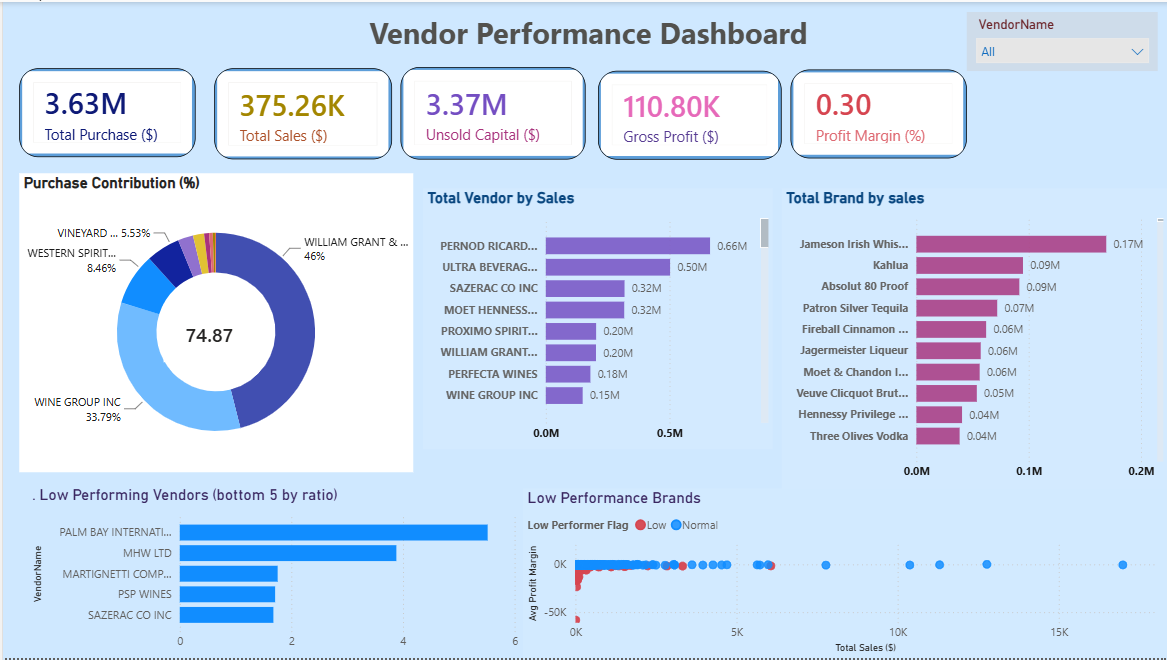

The dashboard page shown, as its layout file describes it:
{"tool":"powerbi","page":{"name":"Page 1","canvas":[1280,720],"ordinal":0},"visuals":[{"type":"cardVisual","fields":{"Data":["vendor_sales_summary.Total Purchase ($)"]},"box":[17.8,72.7,193.5,97.4],"z":0},{"type":"cardVisual","fields":{"Data":["vendor_sales_summary.Unsold Capital ($)"]},"box":[436.4,71.4,203.1,101.5],"z":1000},{"type":"cardVisual","fields":{"Data":["vendor_sales_summary.Total Sales ($)"]},"box":[231.9,72.7,194.9,100.2],"z":2000},{"type":"cardVisual","fields":{"Data":["vendor_sales_summary.Gross Profit ($)"]},"box":[653.2,75.5,201.7,97.4],"z":3000},{"type":"cardVisual","fields":{"Data":["vendor_sales_summary.Profit Margin (%)"]},"box":[864.5,74.1,193.5,97.4],"z":4000},{"type":"barChart","title":"Total Vendor by Sales","fields":{"Category":["vendor_sales_summary.VendorName"],"Y":["vendor_sales_summary.Total Purchase ($)"]},"box":[461.1,204.5,384.2,286.8],"z":5000},{"type":"barChart","title":"Total Brand by sales","fields":{"Y":["vendor_sales_summary.Total Purchase ($)"],"Category":["vendor_sales_summary.Description"]},"box":[854.9,204.5,425.4,329.3],"z":6000},{"type":"clusteredBarChart","title":". Low Performing Vendors (bottom 5 by ratio)","fields":{"Category":["vendor_sales_summary.VendorName"],"Y":["vendor_sales_summary.Avg Sales to Purchase Ratio"]},"box":[27.4,531,543.4,189.4],"z":7000},{"type":"donutChart","title":"Purchase Contribution (%)","fields":{"Category":["vendor_sales_summary.VendorName"],"Y":["vendor_sales_summary.Total Purchase ($)"]},"box":[17.8,188,432.2,328],"z":8000},{"type":"scatterChart","title":"Low Performance Brands","fields":{"X":["vendor_sales_summary.Total Sales ($)"],"Y":["vendor_sales_summary.Avg Profit Margin"],"Category":["vendor_sales_summary.Description"],"Series":["vendor_sales_summary.Low Performer Flag"]},"box":[570.8,533.8,709.4,186.6],"z":9000},{"type":"textbox","box":[17.8,6.9,1250.1,59],"z":10000},{"type":"cardVisual","fields":{"Data":["vendor_sales_summary.Top 10 Contribution %"]},"box":[171.5,326.6,120.8,74.1],"z":11000},{"type":"slicer","fields":{"Values":["vendor_sales_summary.VendorName"]},"box":[1058,11,209.9,64.5],"z":12000}]}

Visuals, with their boxes in screenshot pixels (x1, y1, x2, y2), scaled from the page's 1280x720 canvas onto the 1167x660 screenshot:
cardVisual - vendor_sales_summary.Total Purchase ($): Rect(16, 67, 193, 156)
cardVisual - vendor_sales_summary.Unsold Capital ($): Rect(398, 65, 583, 158)
cardVisual - vendor_sales_summary.Total Sales ($): Rect(211, 67, 389, 158)
cardVisual - vendor_sales_summary.Gross Profit ($): Rect(596, 69, 779, 158)
cardVisual - vendor_sales_summary.Profit Margin (%): Rect(788, 68, 965, 157)
"Total Vendor by Sales" barChart: Rect(420, 187, 771, 450)
"Total Brand by sales" barChart: Rect(779, 187, 1166, 489)
". Low Performing Vendors (bottom 5 by ratio)" clusteredBarChart: Rect(25, 487, 520, 659)
"Purchase Contribution (%)" donutChart: Rect(16, 172, 410, 473)
"Low Performance Brands" scatterChart: Rect(520, 489, 1166, 659)
textbox: Rect(16, 6, 1156, 60)
cardVisual - vendor_sales_summary.Top 10 Contribution %: Rect(156, 299, 266, 367)
slicer - vendor_sales_summary.VendorName: Rect(965, 10, 1156, 69)
